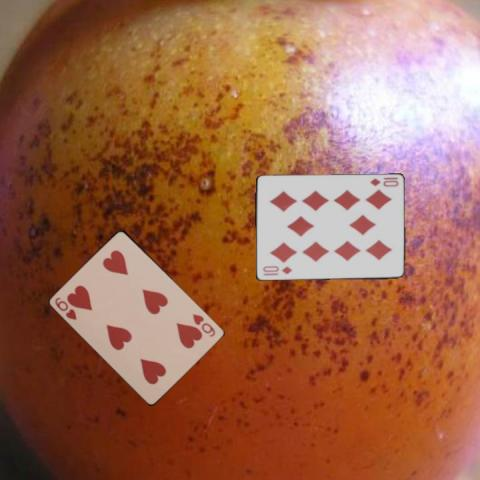10d: (260, 263, 293, 276), (367, 176, 400, 188)
6h: (190, 310, 217, 338), (52, 294, 78, 321)
